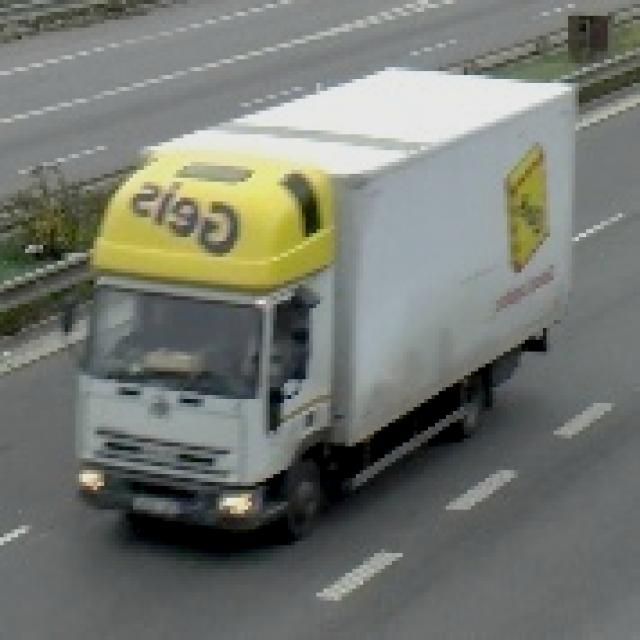truck: (59, 61, 573, 539)
